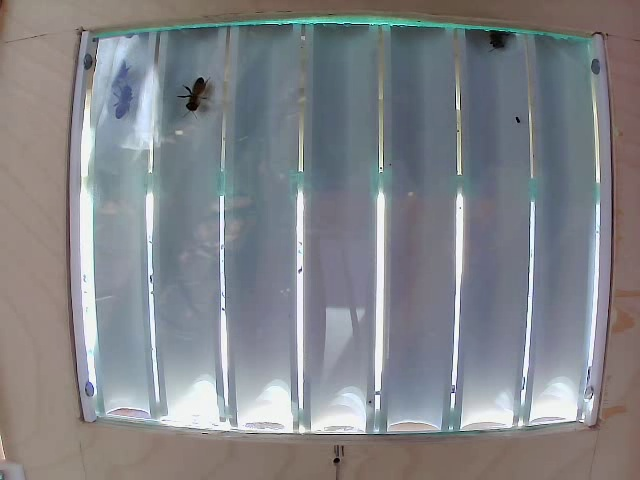bee: (182, 82, 218, 118), (117, 92, 144, 120)
